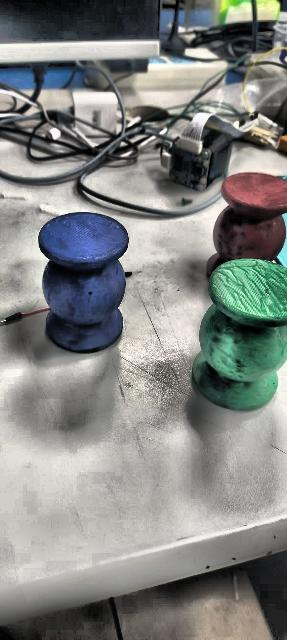blue: (38, 211, 130, 353)
green: (191, 256, 287, 414)
red: (209, 171, 287, 279)
